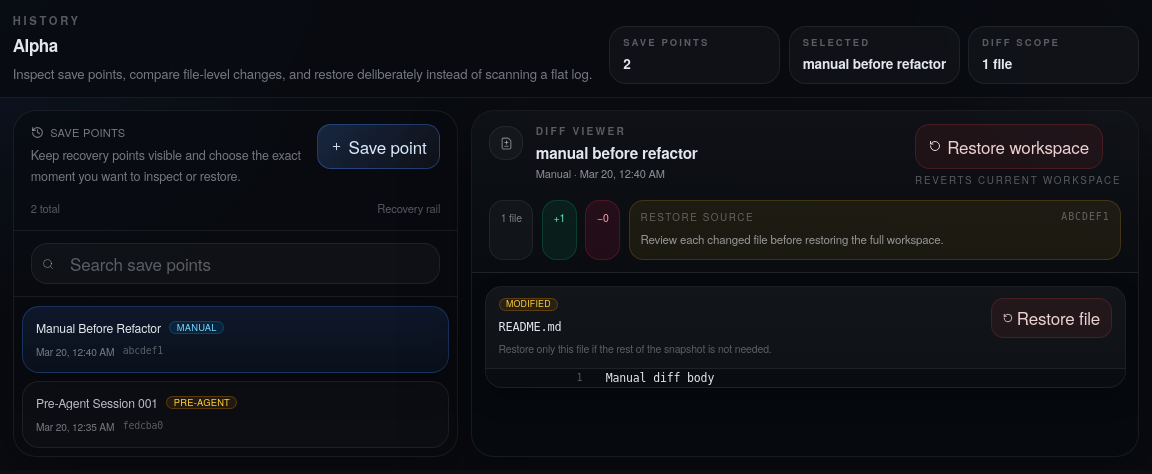
it: HistoryTab › filters save points locally and loads a diff when a result is selected
This screenshot has width=1152, height=474.
Expected: the text "Manual diff body" is shown, [593,369,1124,387]
Type "pre-agent" into the field labelled "Search save points" at (236, 264), box [36,244,435,283]
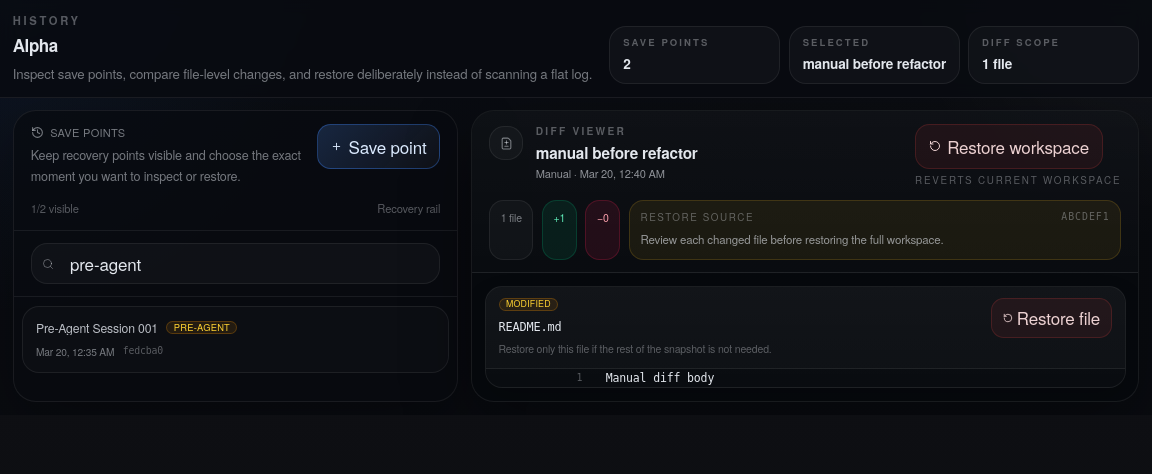
Click the button "pre-agent session 001 Pre-agent Mar 20, 12:35 AM fedcba0" at (97, 327), box [22,306,449,373]
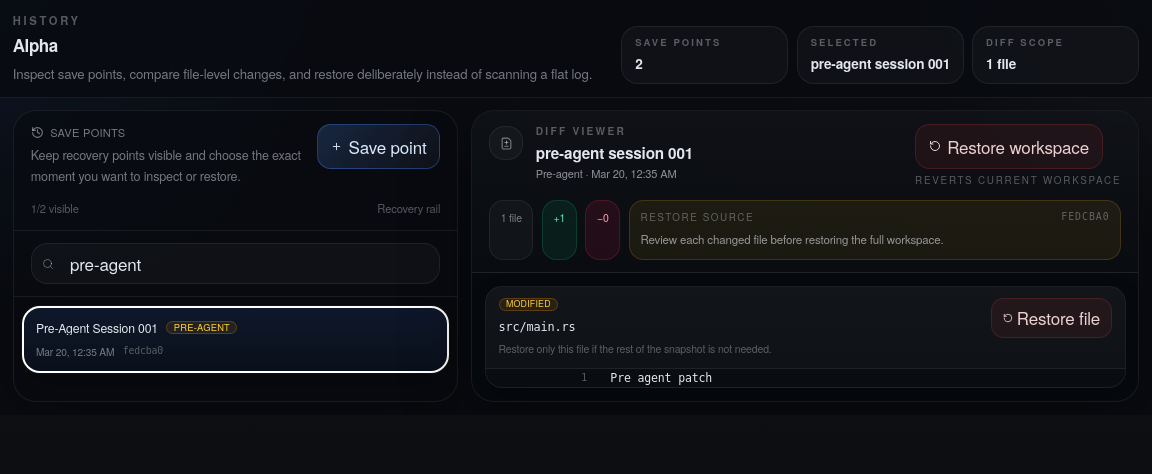
Result: the text "Pre agent patch" is shown at [598,369,1124,387]
